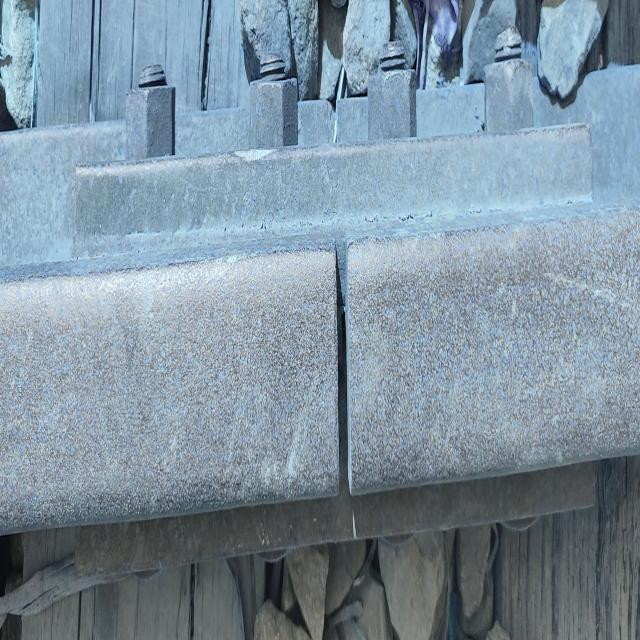Good Joint: (58, 95, 607, 579)
